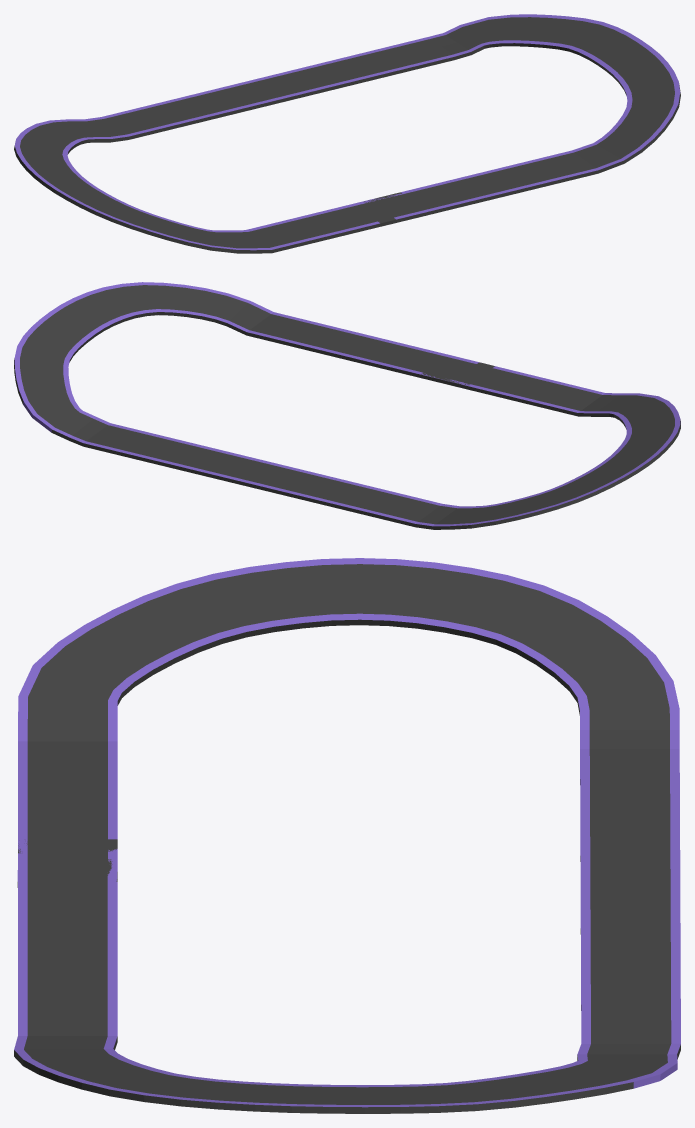
3 renders of one model, top to bottom at view 1: azimuth 30°, elevation 25°; view 2: azimuth 150°, elevation 25°; view 3: azimuth 270°, elevation 25°, orthographic. The views are drawn at different scales.
Parts seen in each view (by area): view 1: Plane; view 2: Plane; view 3: Plane.
Part boxes in pixels (x1=…): Plane: x1=14, y1=14, x2=680, y2=253; Plane: x1=14, y1=282, x2=680, y2=529; Plane: x1=14, y1=558, x2=680, y2=1113.
Size of the model in its own units: 2572 by 149 by 1338.
